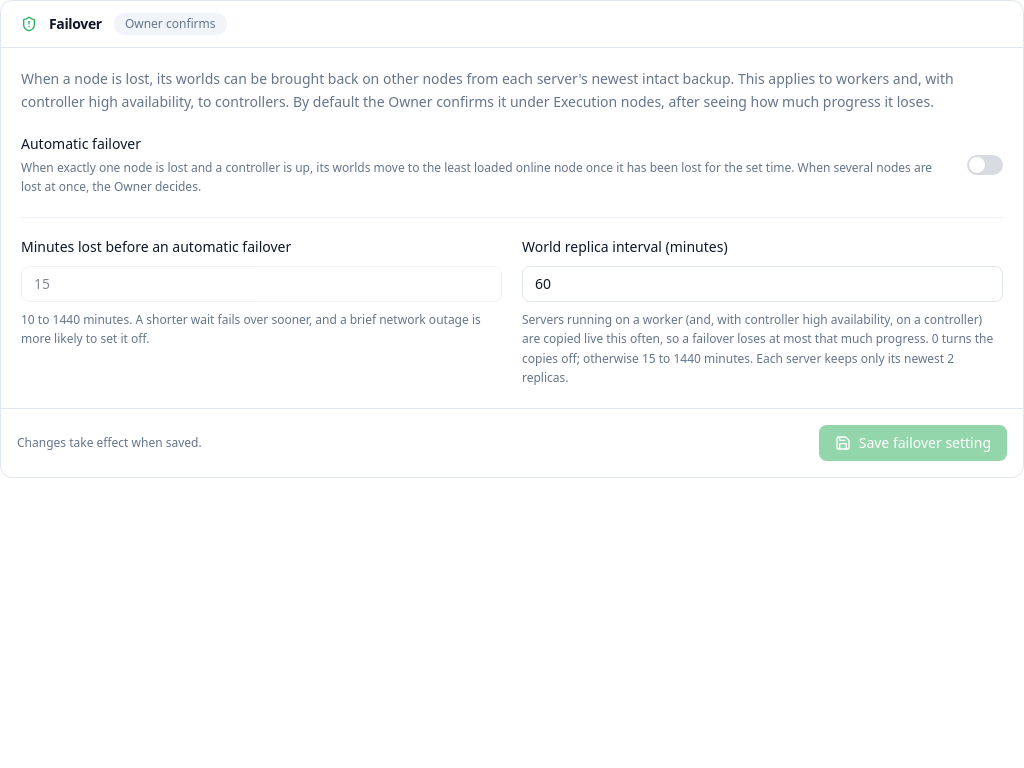
Test case: failover setting › saves the setting with its revision and shows the saved state
Expected: the number field labelled "World replica interval (minutes)" holds "60", [522,266,1003,302]
Click the switch named "Automatic failover" at (985, 165), box [967,155,1003,175]
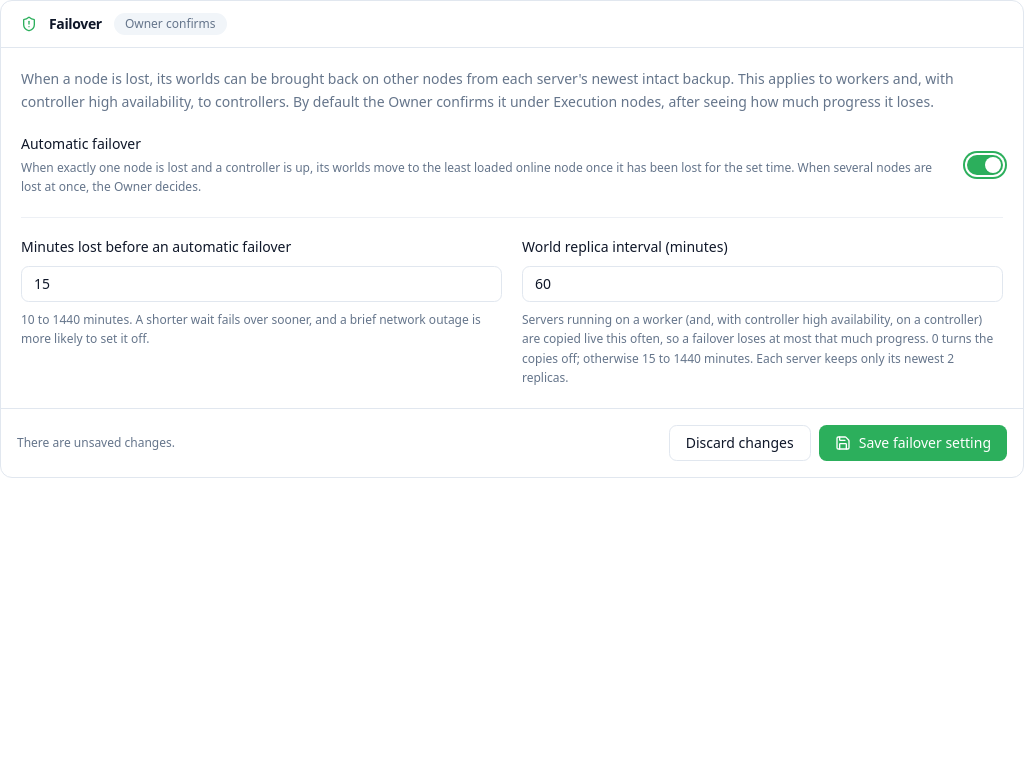
Replace the text in the number field labelled "Minutes lost before an automatic failover" with "30" at (262, 284), box [21,266,502,302]
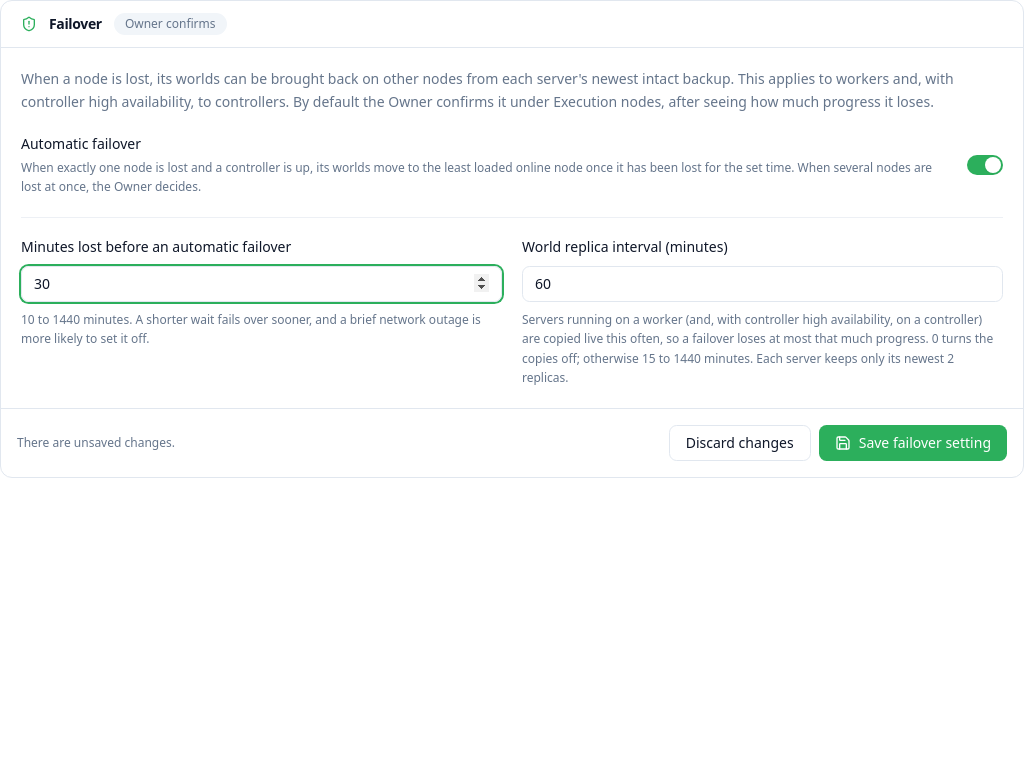
Replace the text in the number field labelled "World replica interval (minutes)" with "120" at (762, 284), box [522,266,1003,302]
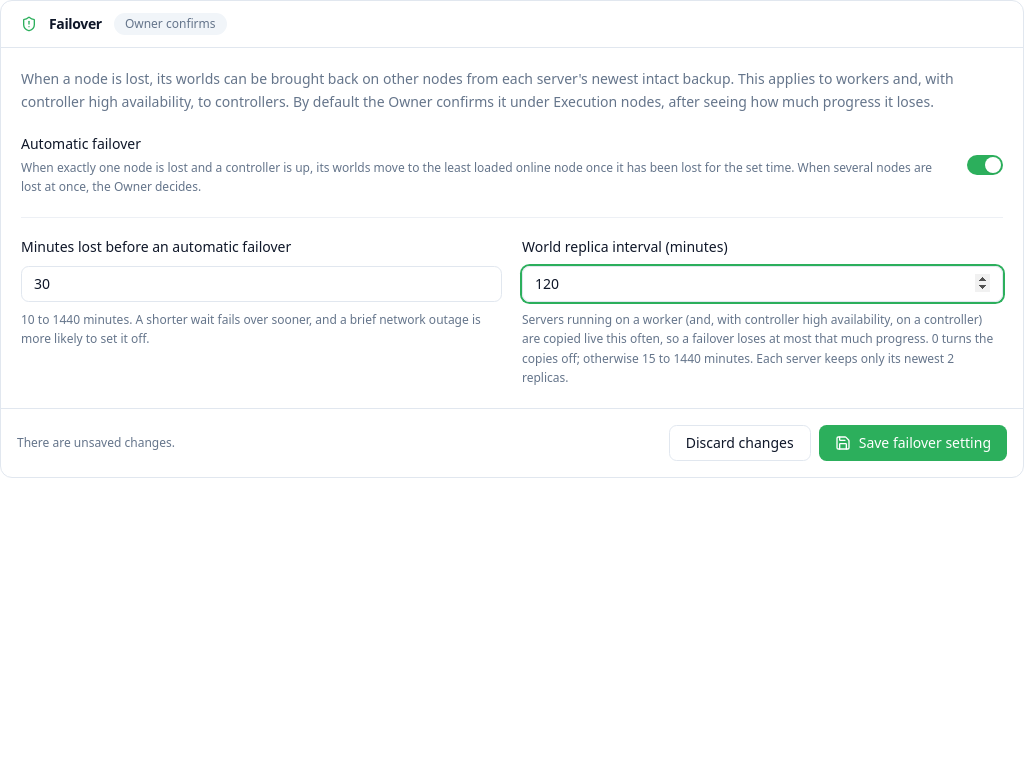
Click the button "Save failover setting" at (913, 442), box [819,424,1007,460]
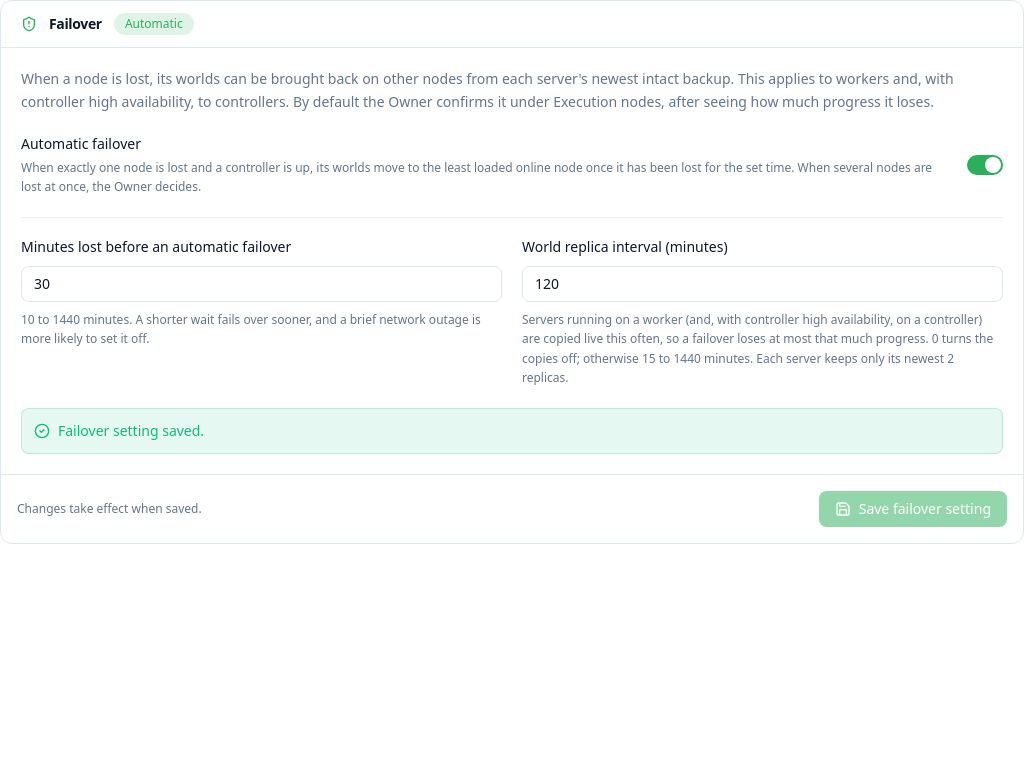
Expected: the text "Failover setting saved." is shown, [58,420,204,440]
Expected: the text "Automatic" is shown, [114,13,194,35]
Expected: the button "Save failover setting" is disabled, [819,490,1007,526]
